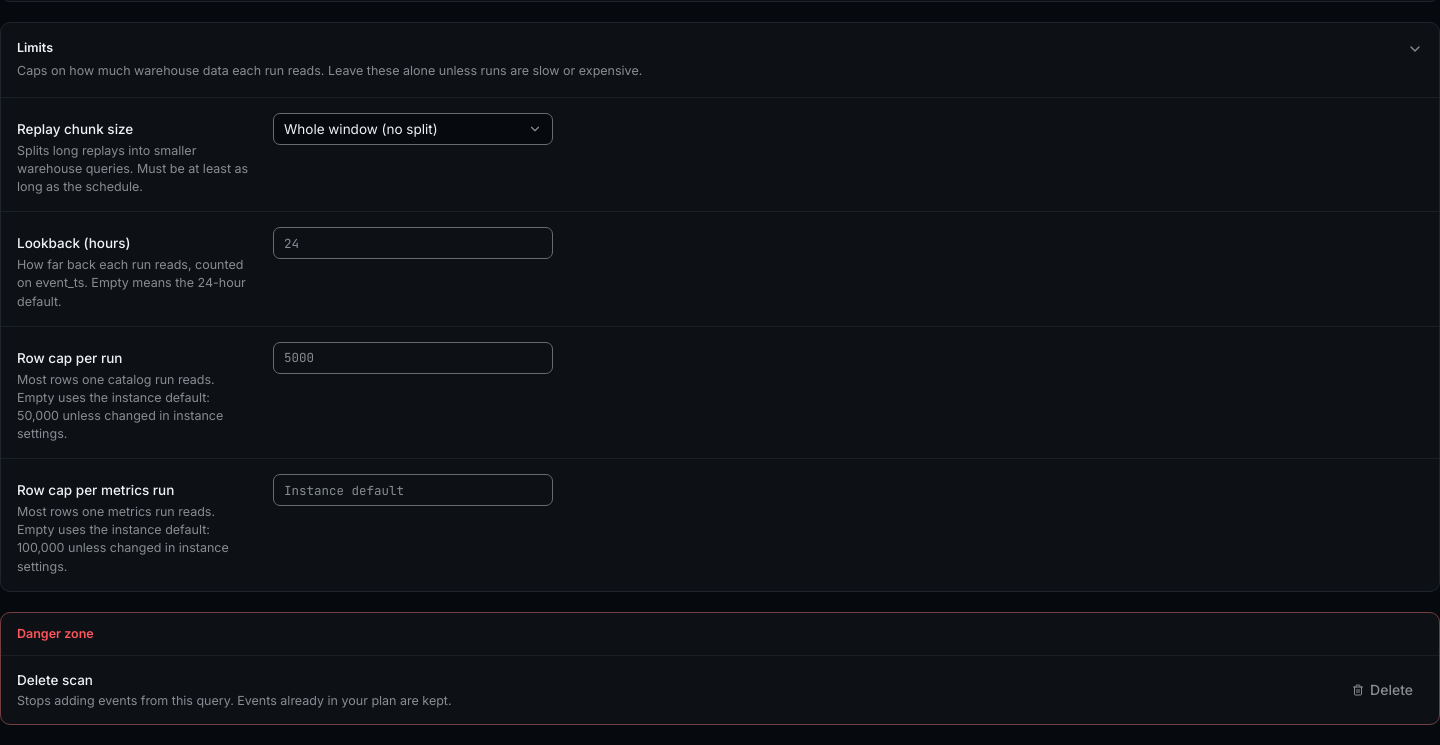
Test case: ScanFormSections — batch 4 › explains a limit the backend would refuse instead of saving it (DATA-25)
The image size is (1440, 745).
(page scrolled)
Replace the text in the number field labelled "Row cap per run" with "0" at (413,358), box [273, 342, 553, 374]
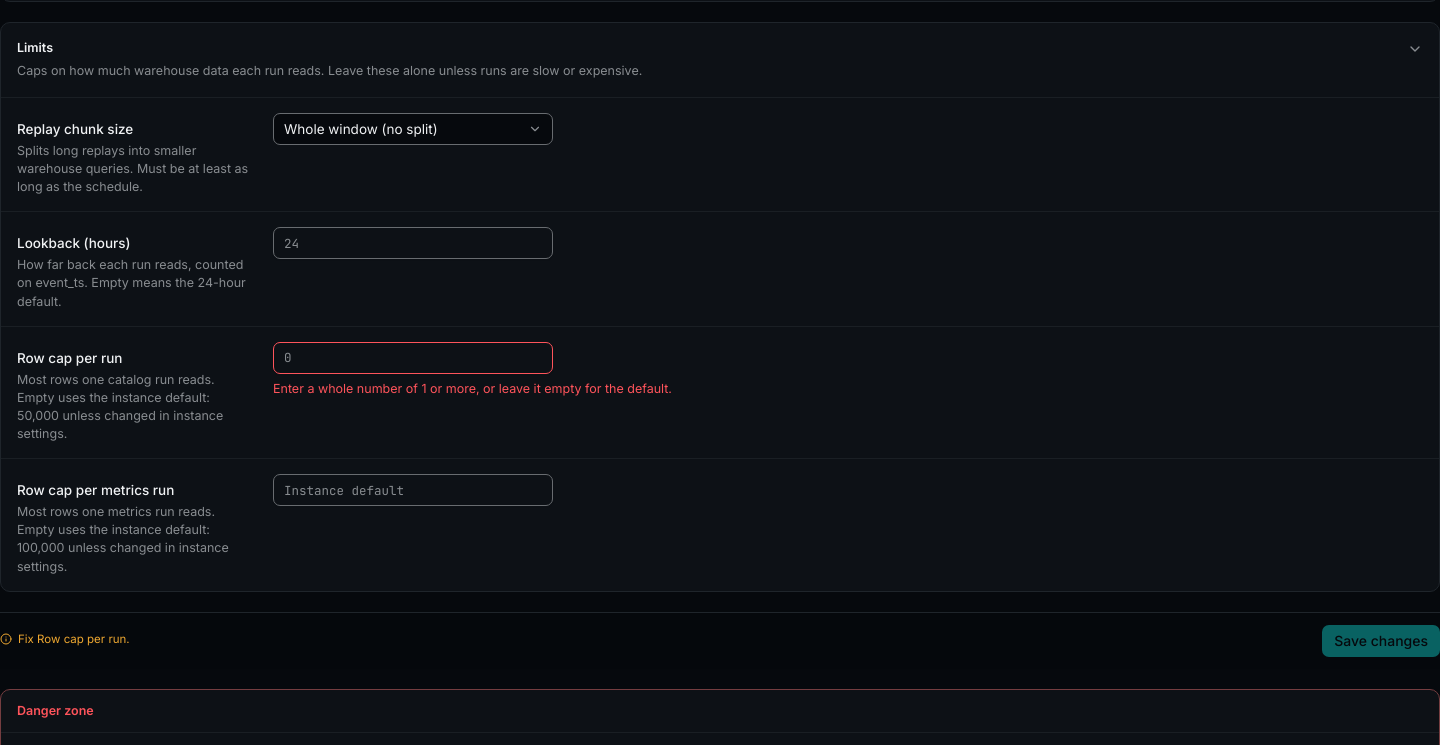
Expected: the button "Save changes" is disabled, [1322, 625, 1439, 657]
Expected: the text "Fix Row cap per run." is shown, [18, 631, 130, 647]
